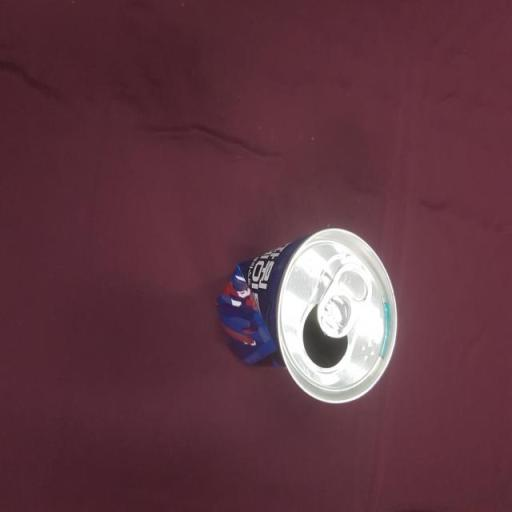metal: (205, 194, 407, 421)
